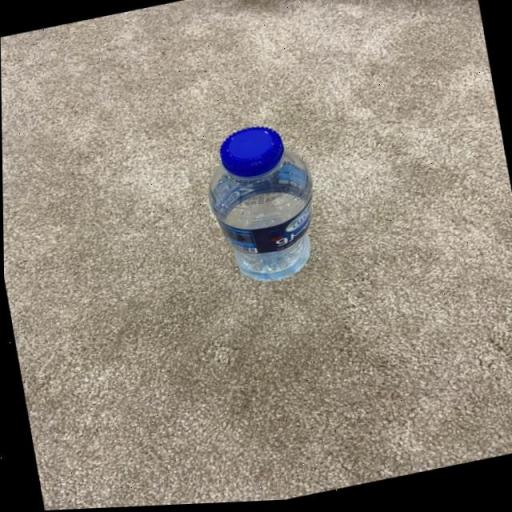plastic: (193, 114, 331, 296)
